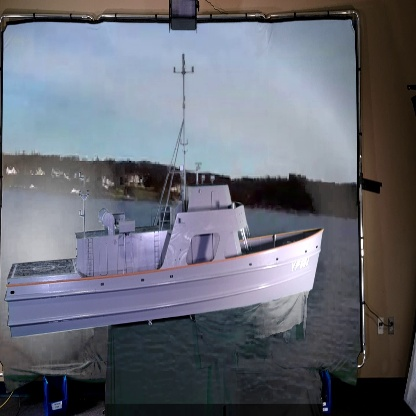YP689: (4, 58, 324, 342)
